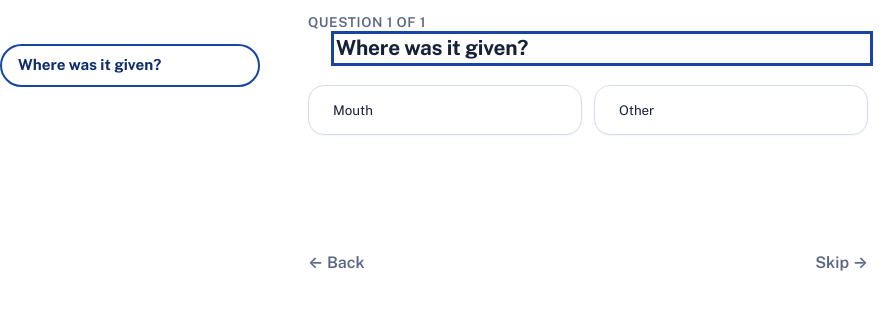
Test: ConversationalStep — a choice option requiring inline follow-up › REGRESSION: clicking Next with the follow-up still blank blocks, without a duplicated error banner
The image size is (890, 319).
Click the button "Other" at (637, 110), box 594,85 -> 868,135
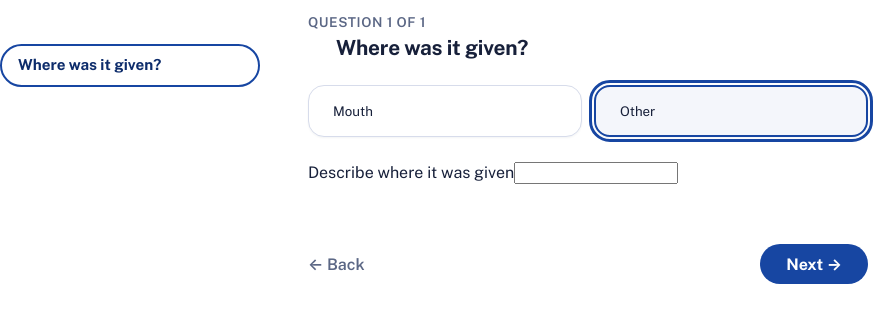
Click the button "Next →" at (814, 264), box 760,244 -> 868,284
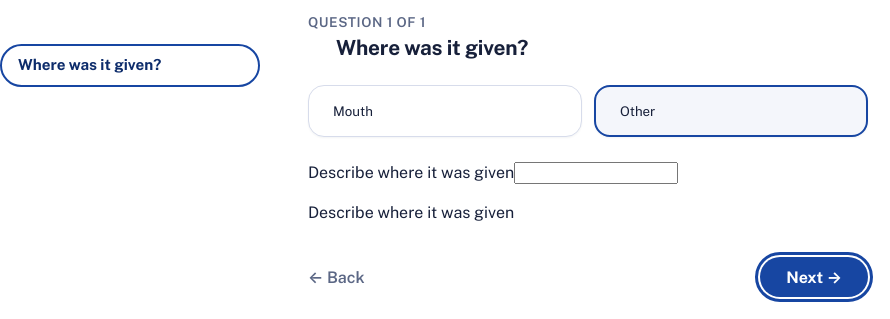
expect the heading "Where was it given?" is shown: met, box 336,35 -> 528,60
expect the text "Describe where it was given" is shown 2 times: met, box 308,163 -> 514,182; 308,203 -> 514,222
expect the message reads "Describe where it was given": met, box 308,203 -> 514,222
